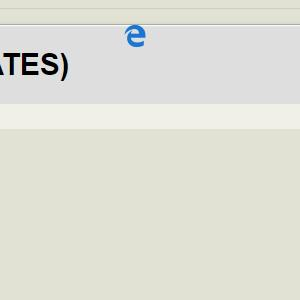edge: (124, 24, 146, 47)
